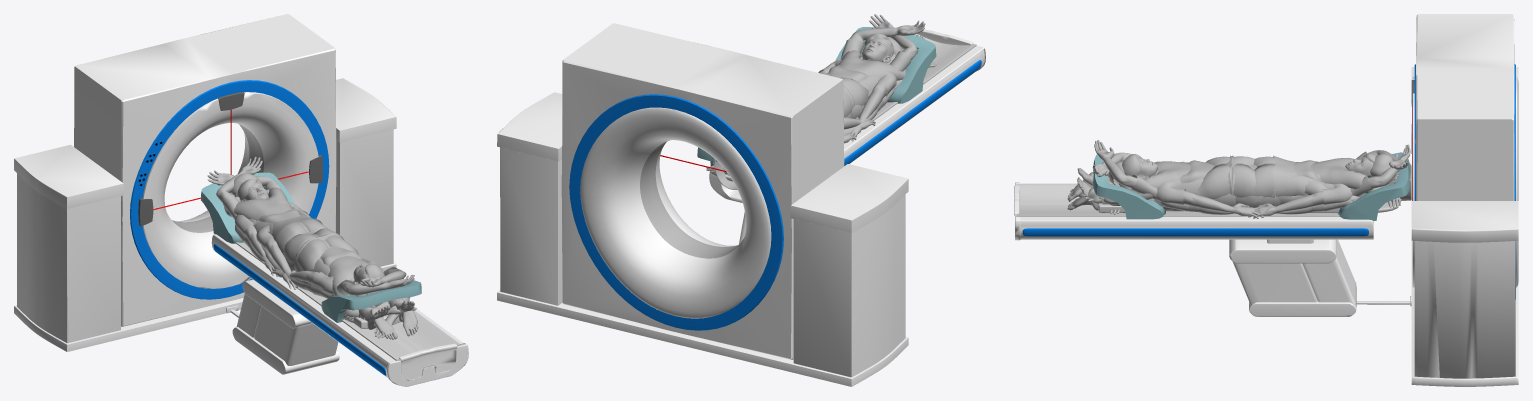
Rendered from Sharon.glb.
3 views of the same model, side by side, from view 1: azimuth 30°, elevation 25°; view 2: azimuth 150°, elevation 25°; view 3: azimuth 270°, elevation 25° (orthographic). The views are drawn at different scales.
Parts seen in each view (by area): view 1: SM_MRI_tilt.001, SM_MRI_base, SM_MRI_bed_upDown.001, SM_MRI_bed_inOut.001, SM_head_arm_rest.001, SM_head_arm_rest, F1baseMesh_geo1, F1baseMesh_geo1.001, F1baseMesh_geo8, scrubShirt_geo9, scrubPants_geo8, scrubShirt_geo5 (+8 smaller); view 2: SM_MRI_tilt.001, SM_MRI_base, SM_MRI_bed_upDown.001, F1baseMesh_geo1.001, SM_head_arm_rest.001, SM_MRI_bed_inOut.001, scrubShirt_geo5, scrubShirt_geo1.001, F1baseMesh_geo4, scrubPants_geo8; view 3: SM_MRI_base, SM_MRI_tilt.001, SM_MRI_bed_upDown.001, SM_MRI_bed_inOut.001, SM_head_arm_rest, SM_head_arm_rest.001, F1baseMesh_geo1.001, scrubPants_geo8, scrubShirt_geo9, F1baseMesh_geo1, scrubShirt_geo10, scrubShirt_geo1.001 (+9 smaller).
Boxes of the visible parts, x1=… form: SM_MRI_tilt.001: x1=74, y1=14, x2=336, y2=326; SM_MRI_base: x1=14, y1=78, x2=396, y2=374; SM_MRI_bed_upDown.001: x1=211, y1=234, x2=468, y2=386; SM_MRI_bed_inOut.001: x1=236, y1=242, x2=460, y2=380; SM_head_arm_rest.001: x1=321, y1=280, x2=421, y2=322; SM_head_arm_rest: x1=201, y1=172, x2=294, y2=243; F1baseMesh_geo1: x1=207, y1=156, x2=388, y2=301; F1baseMesh_geo1.001: x1=341, y1=264, x2=414, y2=295; F1baseMesh_geo8: x1=265, y1=238, x2=418, y2=339; scrubShirt_geo9: x1=224, y1=187, x2=322, y2=224; scrubPants_geo8: x1=297, y1=235, x2=403, y2=319; scrubShirt_geo5: x1=328, y1=256, x2=384, y2=295; SM_MRI_tilt.001: x1=561, y1=23, x2=844, y2=359; SM_MRI_base: x1=497, y1=92, x2=908, y2=386; SM_MRI_bed_upDown.001: x1=709, y1=45, x2=985, y2=202; F1baseMesh_geo1.001: x1=842, y1=14, x2=925, y2=62; SM_head_arm_rest.001: x1=835, y1=27, x2=936, y2=103; SM_MRI_bed_inOut.001: x1=872, y1=29, x2=976, y2=120; scrubShirt_geo5: x1=838, y1=50, x2=905, y2=80; scrubShirt_geo1.001: x1=828, y1=39, x2=910, y2=81; F1baseMesh_geo4: x1=859, y1=62, x2=936, y2=123; scrubPants_geo8: x1=819, y1=72, x2=869, y2=105; SM_MRI_base: x1=1229, y1=67, x2=1518, y2=386; SM_MRI_tilt.001: x1=1411, y1=14, x2=1518, y2=299; SM_MRI_bed_upDown.001: x1=1015, y1=182, x2=1373, y2=243; SM_MRI_bed_inOut.001: x1=1014, y1=184, x2=1339, y2=216; SM_head_arm_rest: x1=1337, y1=152, x2=1410, y2=220; SM_head_arm_rest.001: x1=1093, y1=154, x2=1165, y2=219; F1baseMesh_geo1.001: x1=1092, y1=140, x2=1398, y2=189; scrubPants_geo8: x1=1102, y1=156, x2=1231, y2=211; scrubShirt_geo9: x1=1273, y1=156, x2=1384, y2=196; F1baseMesh_geo1: x1=1107, y1=144, x2=1410, y2=188; scrubShirt_geo10: x1=1273, y1=155, x2=1352, y2=204; scrubShirt_geo1.001: x1=1129, y1=154, x2=1236, y2=201.
Bounding box in the file's own units: 2.3 × 1.53 × 2.95.
Materials: 1 (1 with a texture image).
